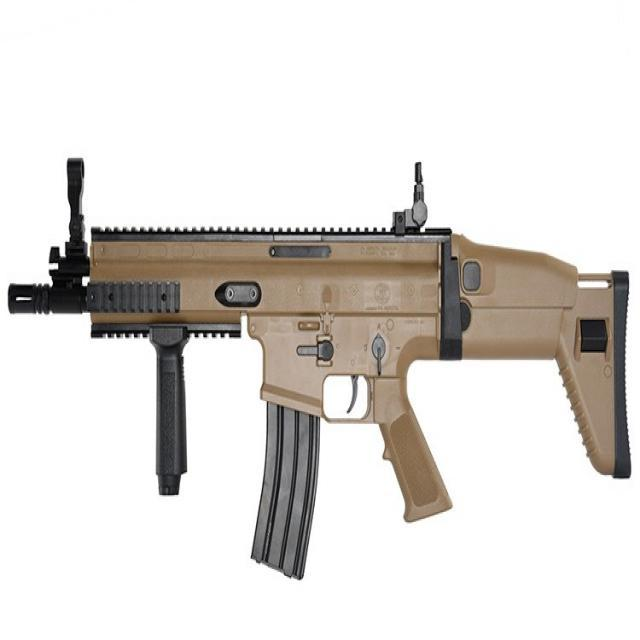rifle: (8, 165, 633, 593)
